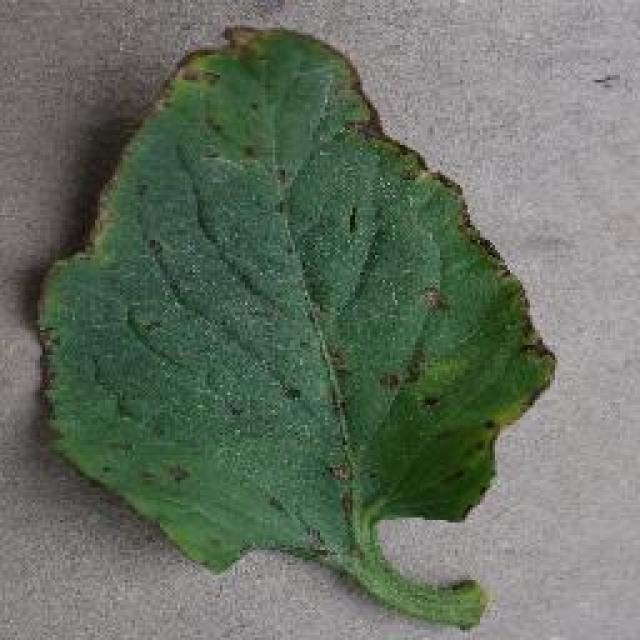Tomato bacterial spot leaf: (45, 29, 557, 624)
